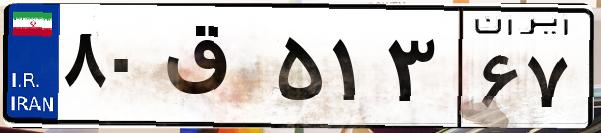0: (110, 28, 158, 98)
1: (330, 28, 385, 110)
3: (385, 28, 445, 110)
5: (270, 28, 330, 110)
6: (475, 38, 525, 113)
7: (525, 38, 570, 115)
8: (57, 26, 110, 100)
ق: (158, 20, 270, 120)
